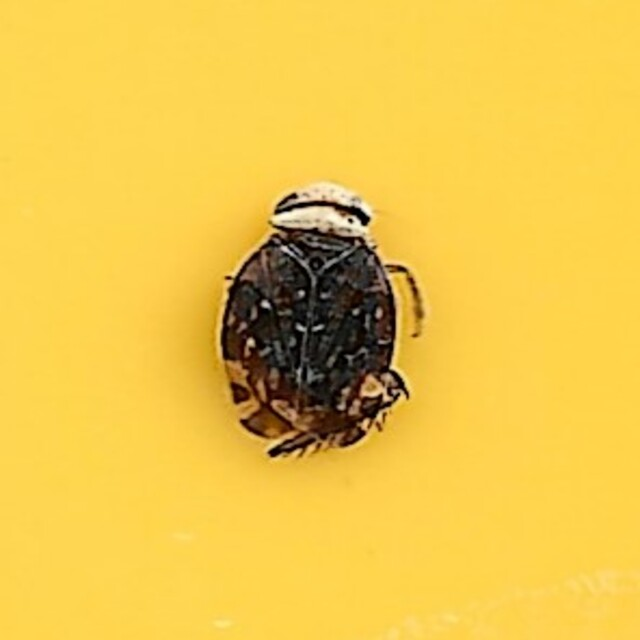Hemiptera: (216, 179, 424, 461)
